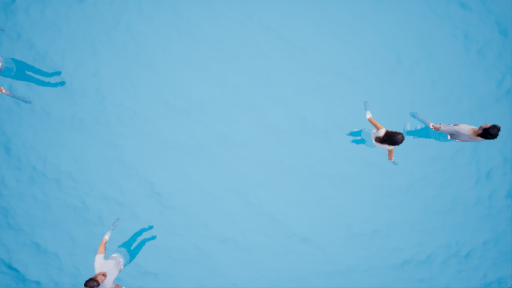person: (83, 214, 157, 288), (409, 105, 505, 162), (350, 101, 407, 166)
